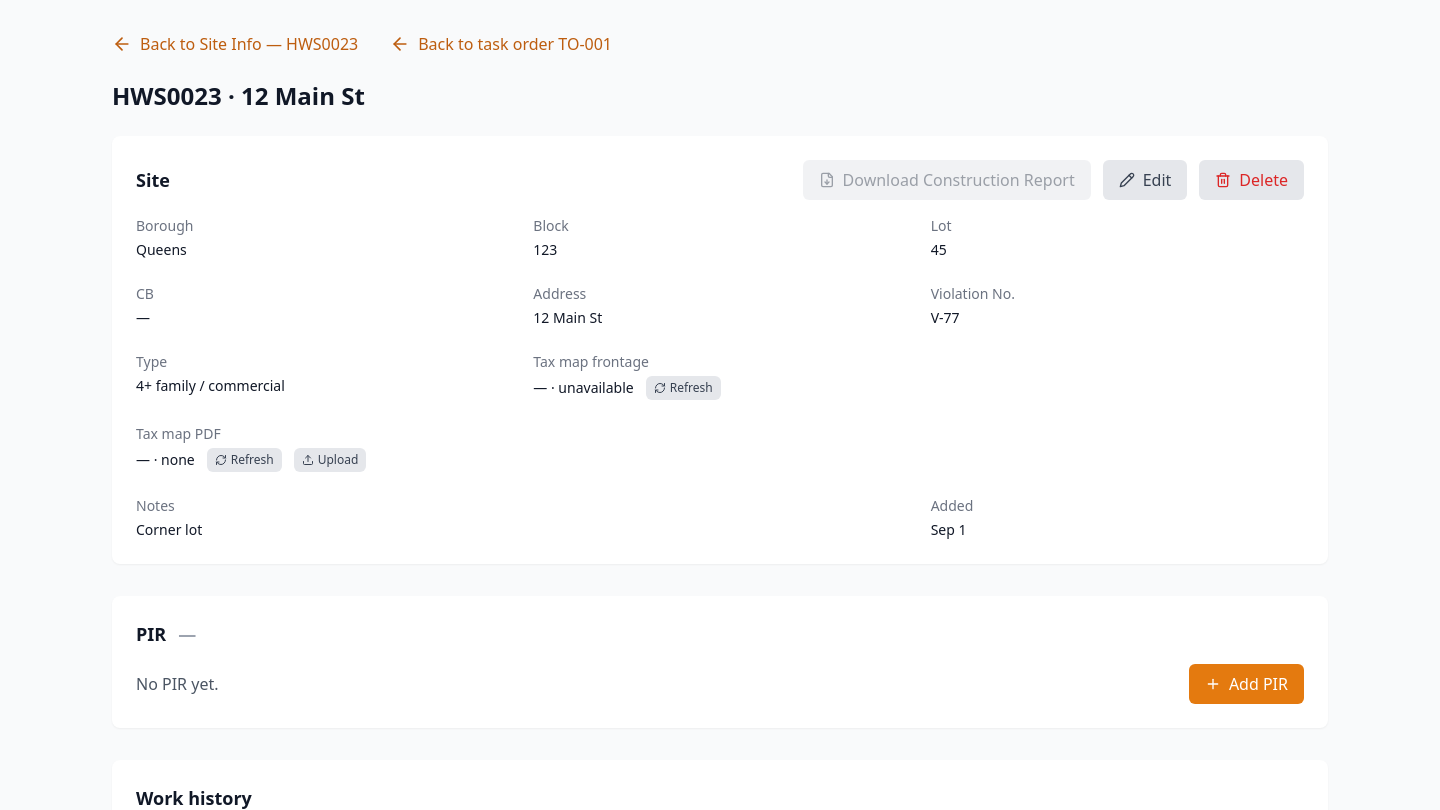
Test: PropertyPage — the property › keeps Back to task order after an edit, whose answer has no task order
The width and height of the screenshot is (1440, 810).
Expected: the heading "HWS0023 · 12 Main St" is shown, [112,80,365,112]
Click the button "Edit": (1145, 180) [1103,160,1187,200]
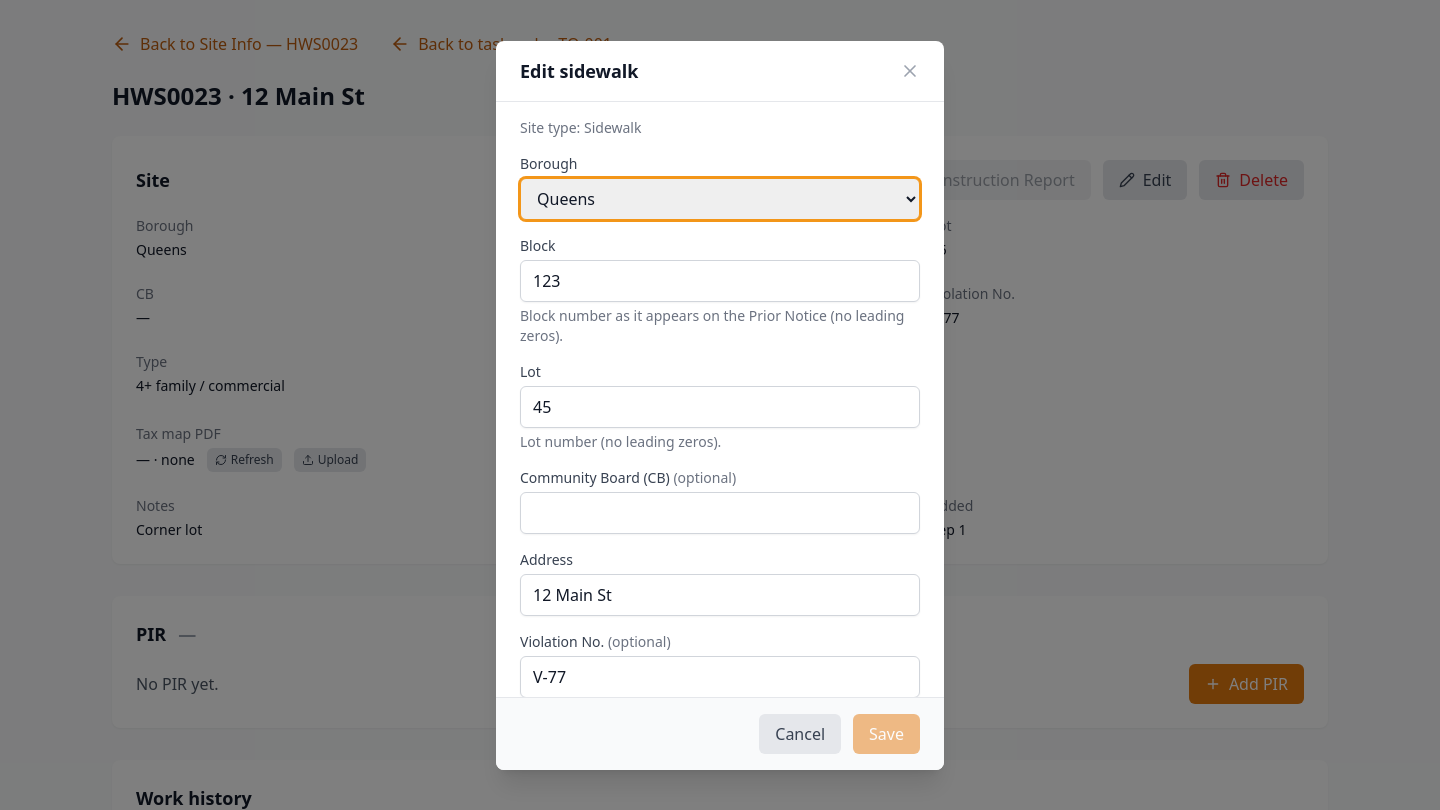
Replace the text in the field labelled "Address" with "14 Main St": (720, 594) [520,574,920,616]
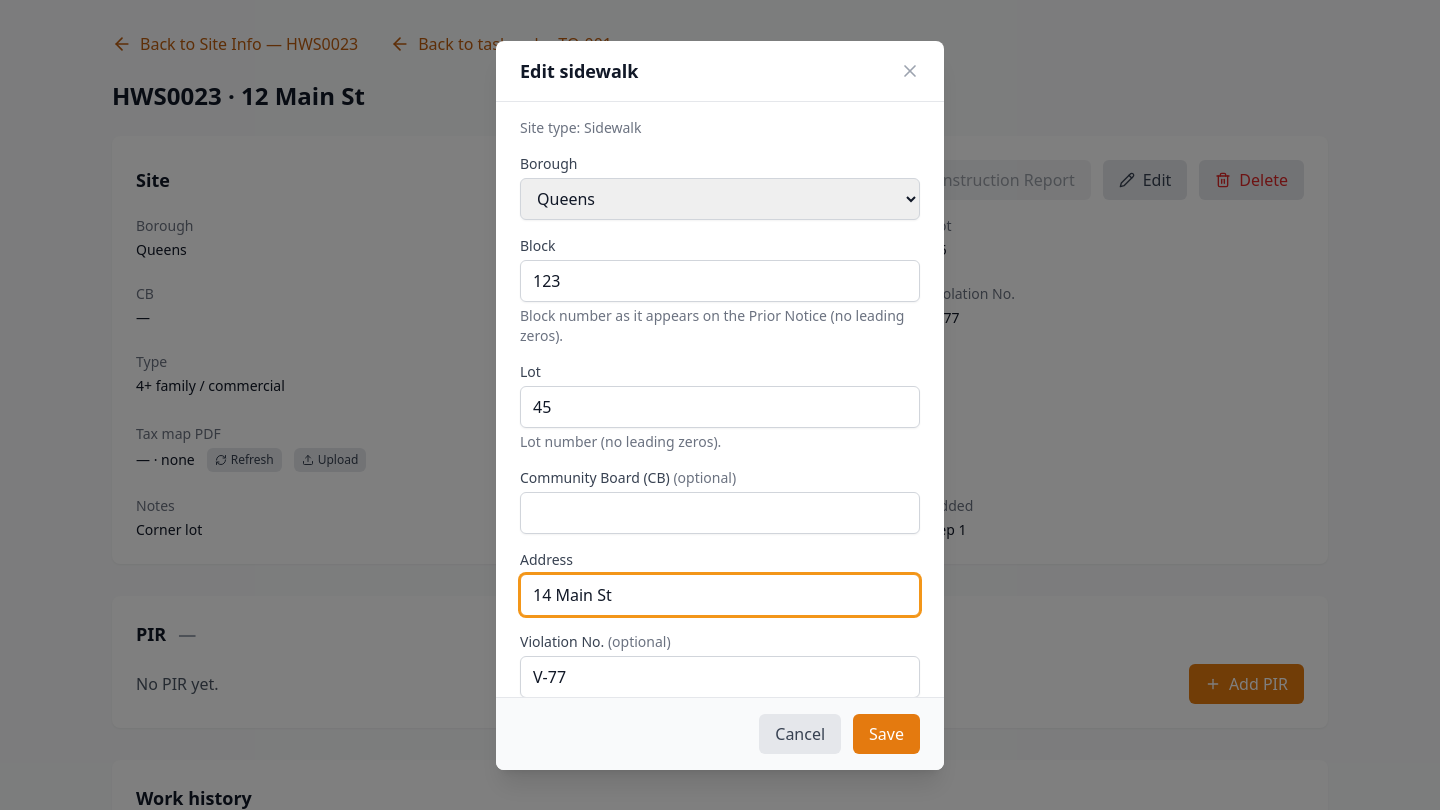
Click the button "Save": (887, 734) [853,714,920,754]
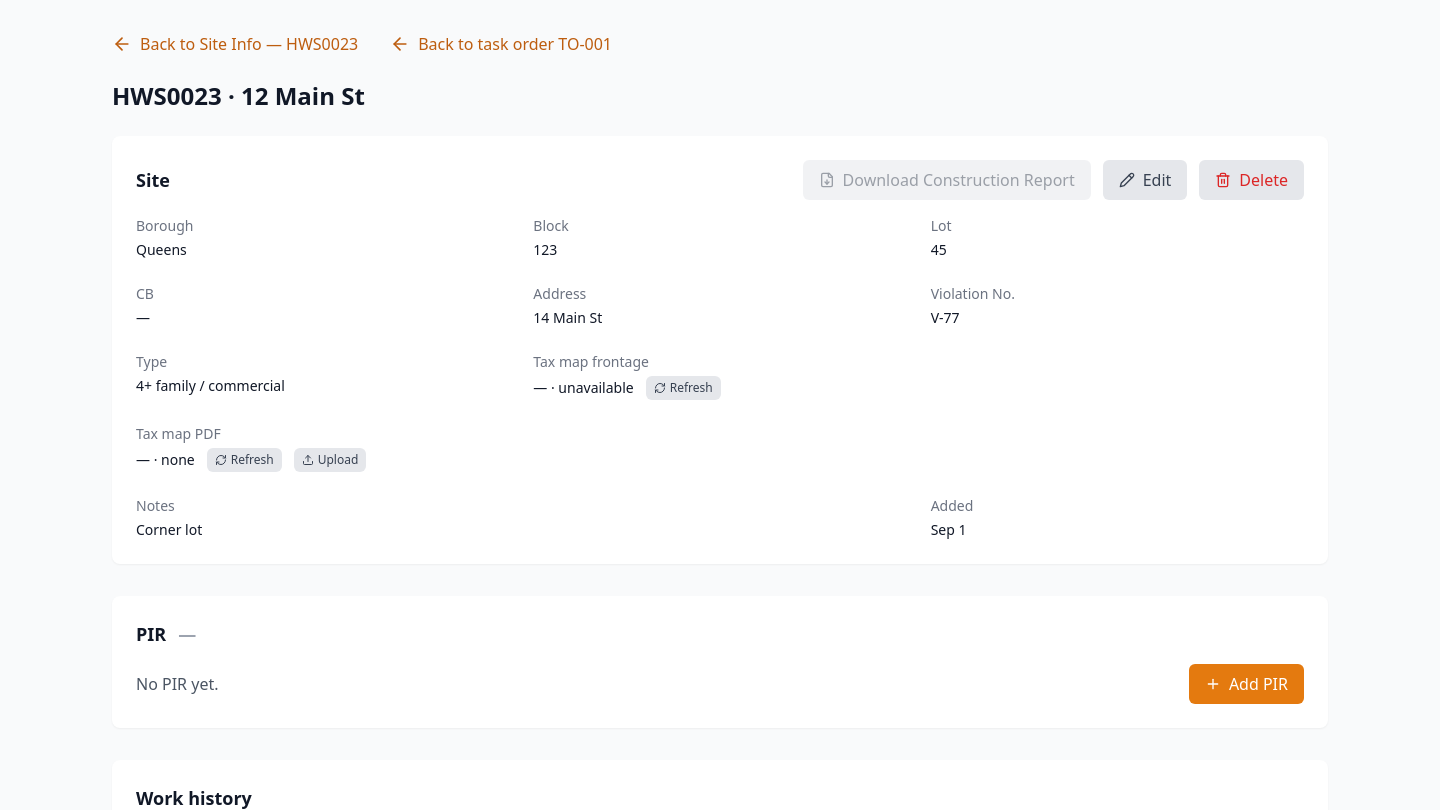
Expected: the button "Back to task order TO-001" is enabled, [390,32,612,56]
Expected: the dialog is gone
